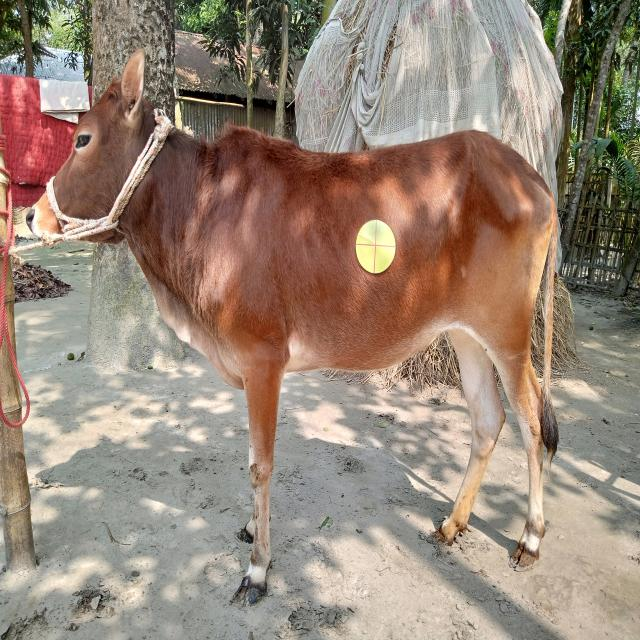badan_sapi: (215, 148, 556, 374)
sapi: (21, 45, 571, 587)
